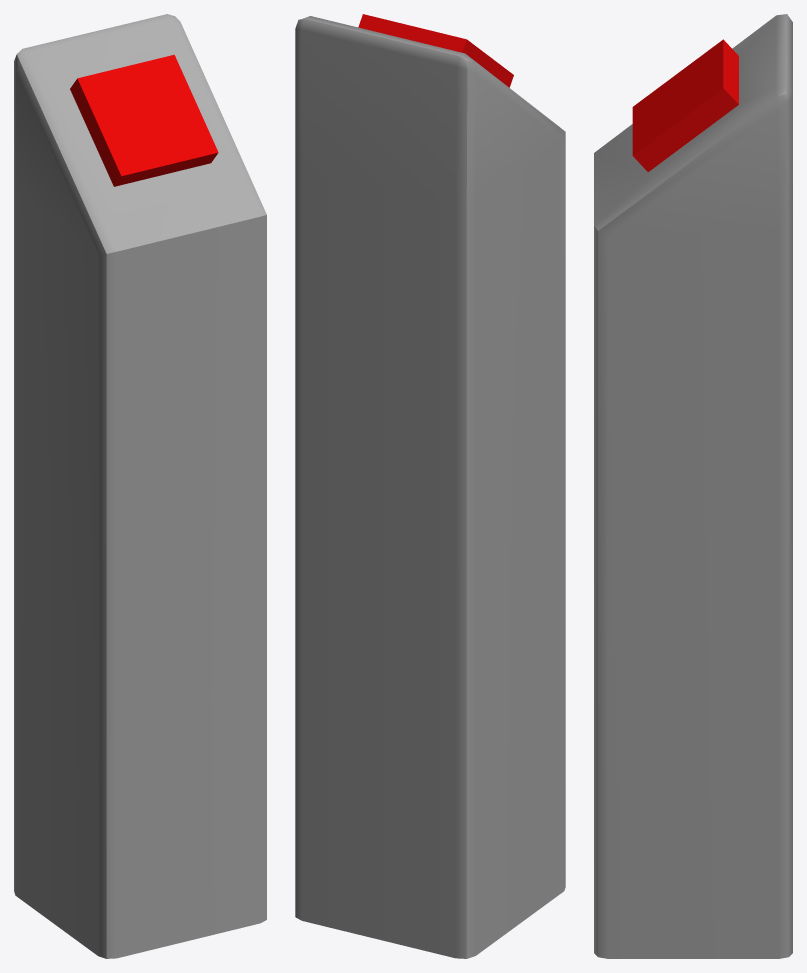
The model's file is Podium_1.fbx.
3 views of the same model, side by side, from view 1: azimuth 30°, elevation 25°; view 2: azimuth 150°, elevation 25°; view 3: azimuth 270°, elevation 25° (orthographic). The views are drawn at different scales.
Visible parts, largest first — view 1: Podium; view 2: Podium; view 3: Podium.
Boxes of the visible parts, left/top/right/bottom form: Podium: left=14, top=14, right=266, bottom=958; Podium: left=295, top=14, right=565, bottom=958; Podium: left=594, top=14, right=792, bottom=958.
Bounding box in the file's own units: 19.81 × 95.18 × 19.81.
